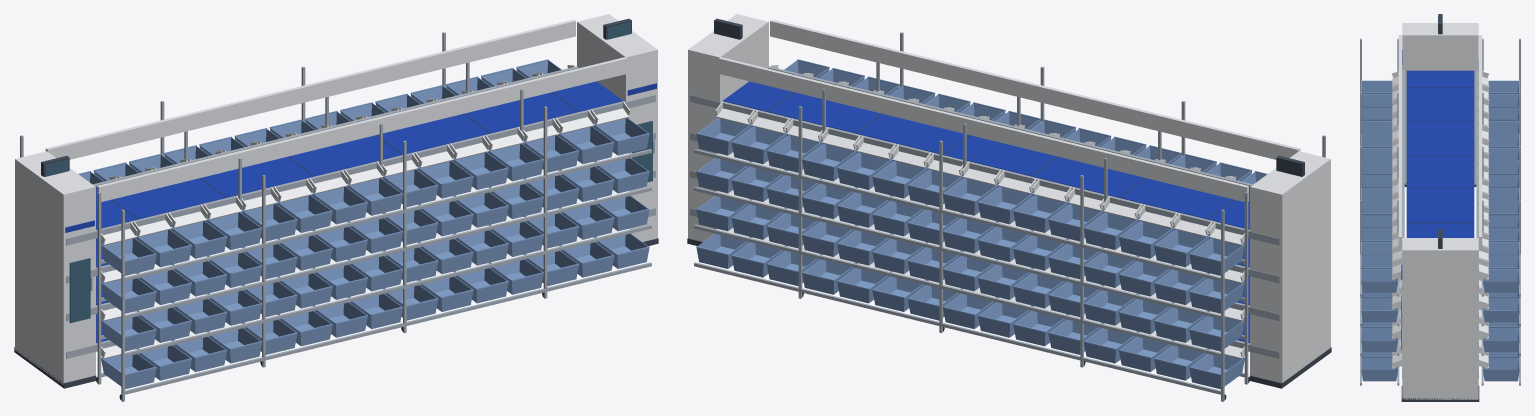
The model's file is SM_MPR_SorterCAD120.fbx.
The picture shows the model from 3 angles, left to right: view 1: azimuth 30°, elevation 25°; view 2: azimuth 150°, elevation 25°; view 3: azimuth 270°, elevation 25°; orthographic projection. The views are drawn at different scales.
Visible parts, largest first — view 1: SM_MPR_SorterCAD120; view 2: SM_MPR_SorterCAD120; view 3: SM_MPR_SorterCAD120.
Boxes of the visible parts, <box> form: SM_MPR_SorterCAD120: <box>14,14,658,401</box>; SM_MPR_SorterCAD120: <box>687,14,1331,401</box>; SM_MPR_SorterCAD120: <box>1360,14,1520,401</box>.
Bounding box in the file's own units: 732 × 219 × 245.
